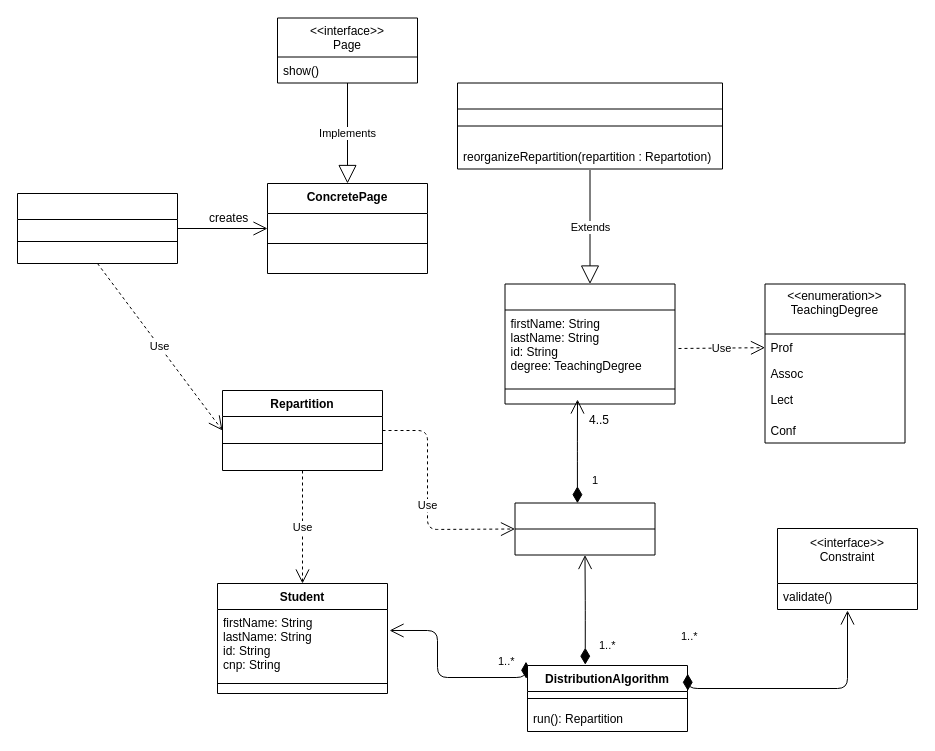
Some shapes in this 935 by 751 pixel diagram are drawn without their labels. Here are the shapes that lost their labels. From the top down, the box of each, then its label:
(456, 82, 722, 169): Secretary
(16, 192, 178, 264): PageFactory
(504, 283, 675, 404): Teacher
(514, 502, 655, 555): Comitee
